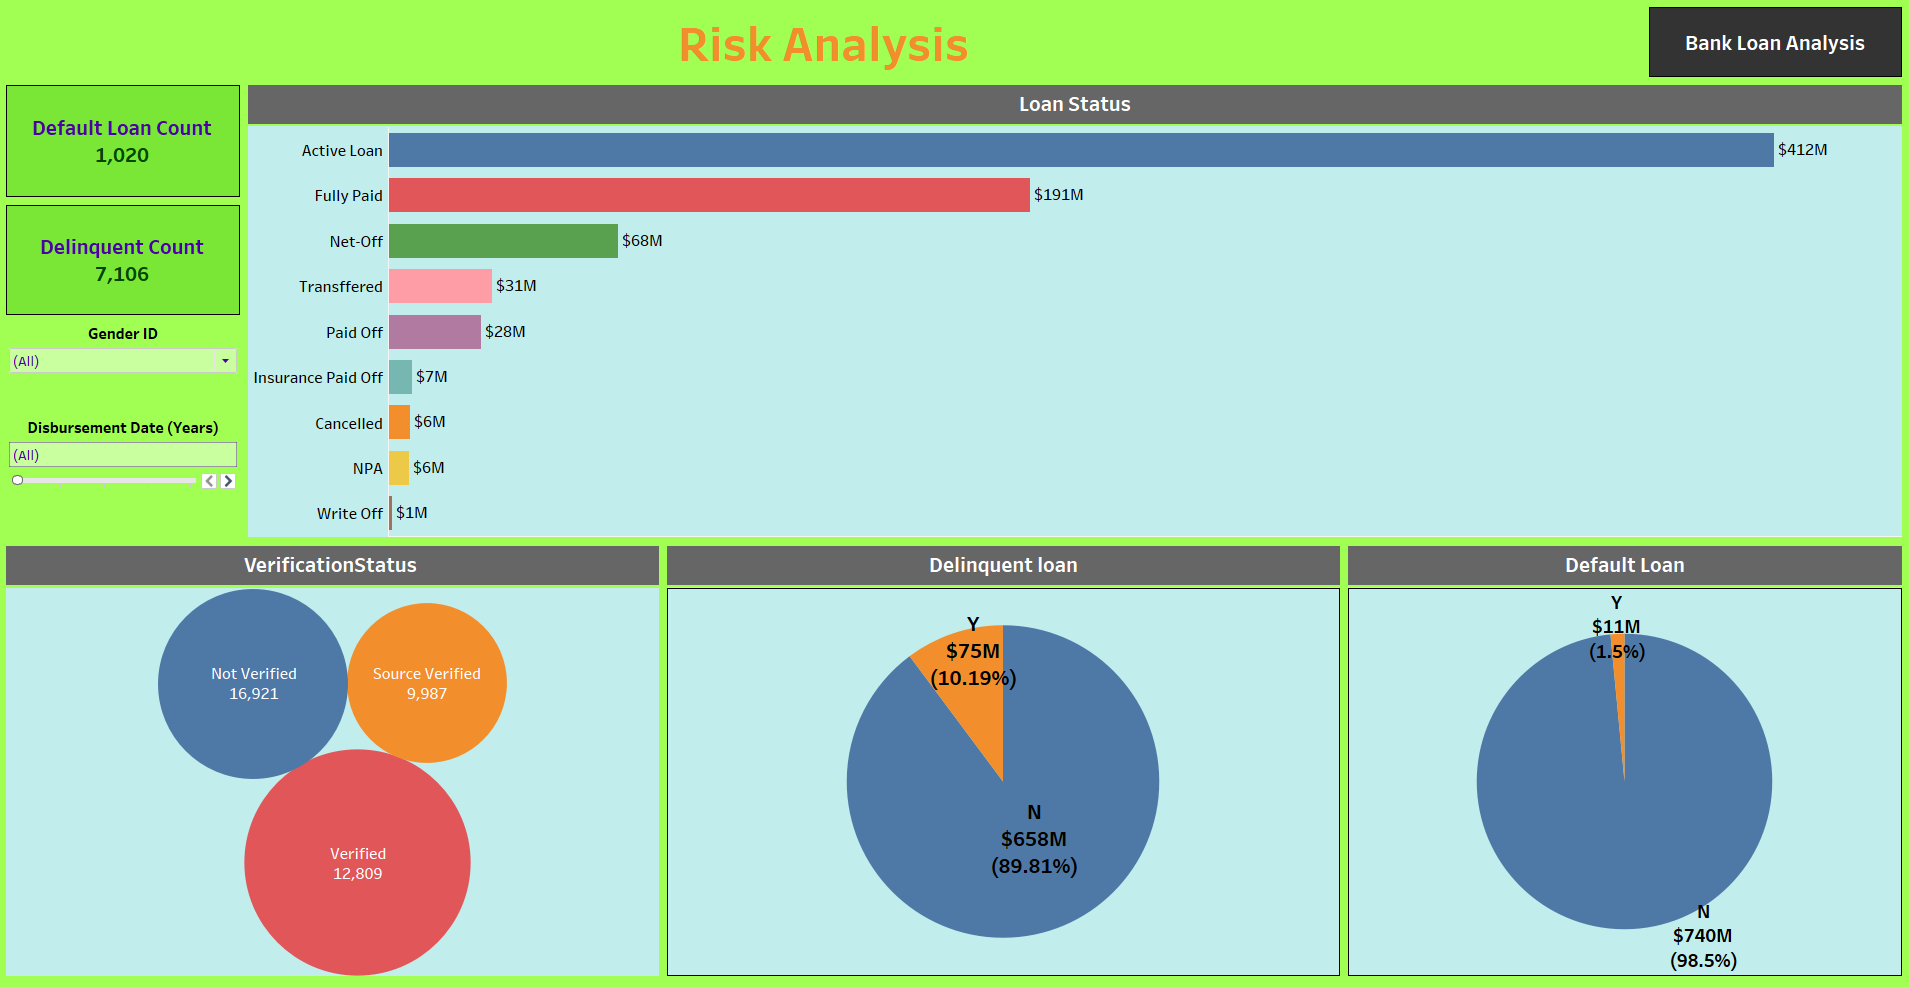

The dashboard page shown, as its layout file describes it:
{"tool":"tableau","page":{"name":"Risk Analysis","canvas":[1000,1000],"units":"permille","ordinal":1},"visuals":[{"type":"text","box":[4.8,10,854.6,78.2]},{"type":"dashboard-object","box":[859.4,10,135.8,78.2]},{"type":"worksheet","title":"Default loan count","mark":"Automatic","box":[4.8,88.2,126.1,120.2]},{"type":"worksheet","title":"Loan Status","mark":"Automatic","rows":["Loan Status"],"cols":["Loan Amount"],"box":[130.9,88.2,864.3,462.3]},{"type":"worksheet","title":"Delinquent Count","mark":"Automatic","box":[4.8,208.4,126.1,118.2]},{"type":"filter","title":"VerificationStatus ","param":"[federated.0yds4hb18ijchr19jztn01kqfz8w].[none:Gender ID:nk]","box":[4.8,326.7,126.1,94.1]},{"type":"filter","title":"VerificationStatus ","param":"[federated.0yds4hb18ijchr19jztn01kqfz8w].[none:Disbursement Date (Years):nk]","box":[4.8,420.8,126.1,129.7]},{"type":"worksheet","title":"VerificationStatus ","mark":"Circle","box":[4.8,550.5,343.6,439.5]},{"type":"worksheet","title":"Delinquent loan","mark":"Pie","box":[348.5,550.5,354.4,439.5]},{"type":"worksheet","title":"Default Loan","mark":"Pie","box":[702.9,550.5,292.3,439.5]}]}

Visuals, with their boxes on the dashboard's canvas, which has no fixed pixel size, in thousandths of its width and height (x1, y1, x2, y2). These are canvas units, not pixel positions in the 1909x987 screenshot, which may show the page scaled, cropped or inside an application window:
text: select_region(5, 10, 859, 88)
dashboard-object: select_region(859, 10, 995, 88)
"Default loan count" worksheet: select_region(5, 88, 131, 208)
"Loan Status" worksheet: select_region(131, 88, 995, 550)
"Delinquent Count" worksheet: select_region(5, 208, 131, 327)
"VerificationStatus " filter: select_region(5, 327, 131, 421)
"VerificationStatus " filter: select_region(5, 421, 131, 550)
"VerificationStatus " worksheet (Circle marks): select_region(5, 550, 348, 990)
"Delinquent loan" worksheet (Pie marks): select_region(348, 550, 703, 990)
"Default Loan" worksheet (Pie marks): select_region(703, 550, 995, 990)
